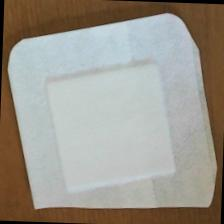Cut: (1, 5, 224, 220)
